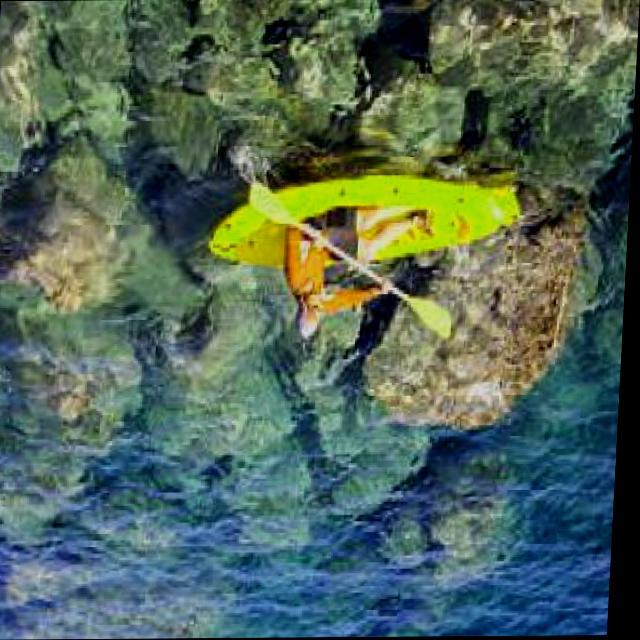kayak: (211, 175, 517, 261)
